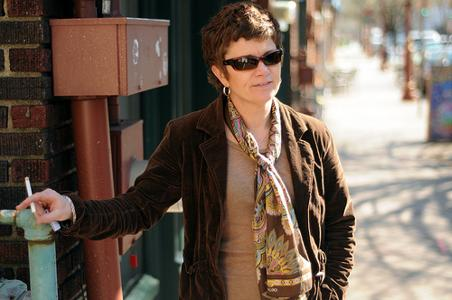person: (16, 1, 356, 300)
